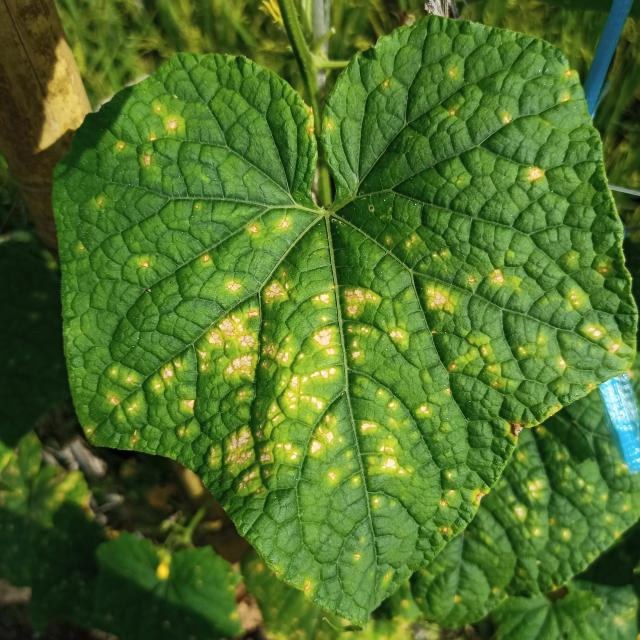disease_cucumber: (63, 52, 607, 553)
